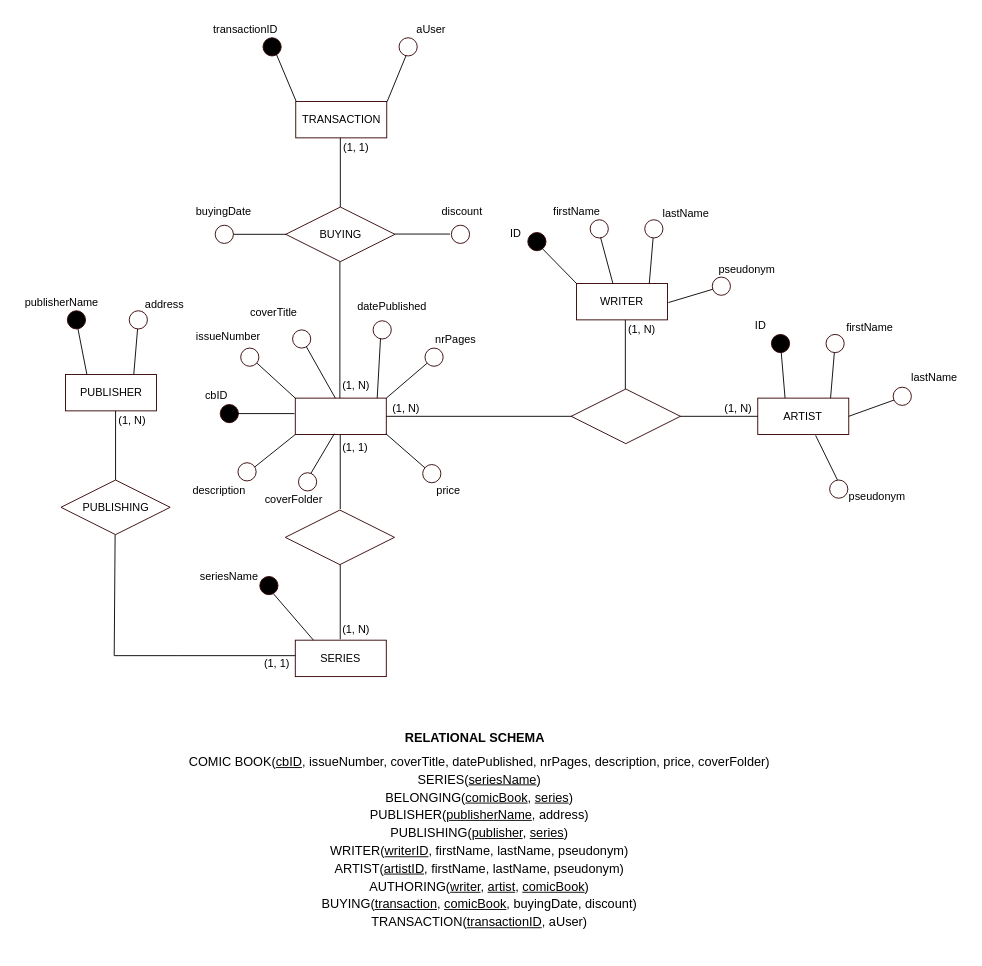
The diagram is 982 pixels wide and 966 high, and some of its shapes have lost their labels. The shapes that lost their labels are listed below. From the top down, each one's centre as x and y in pixels, then its label:
At point (340, 416): "COMIC BOOK".
At point (625, 416): "AUTHORING".
At point (339, 537): "BELONGING".
